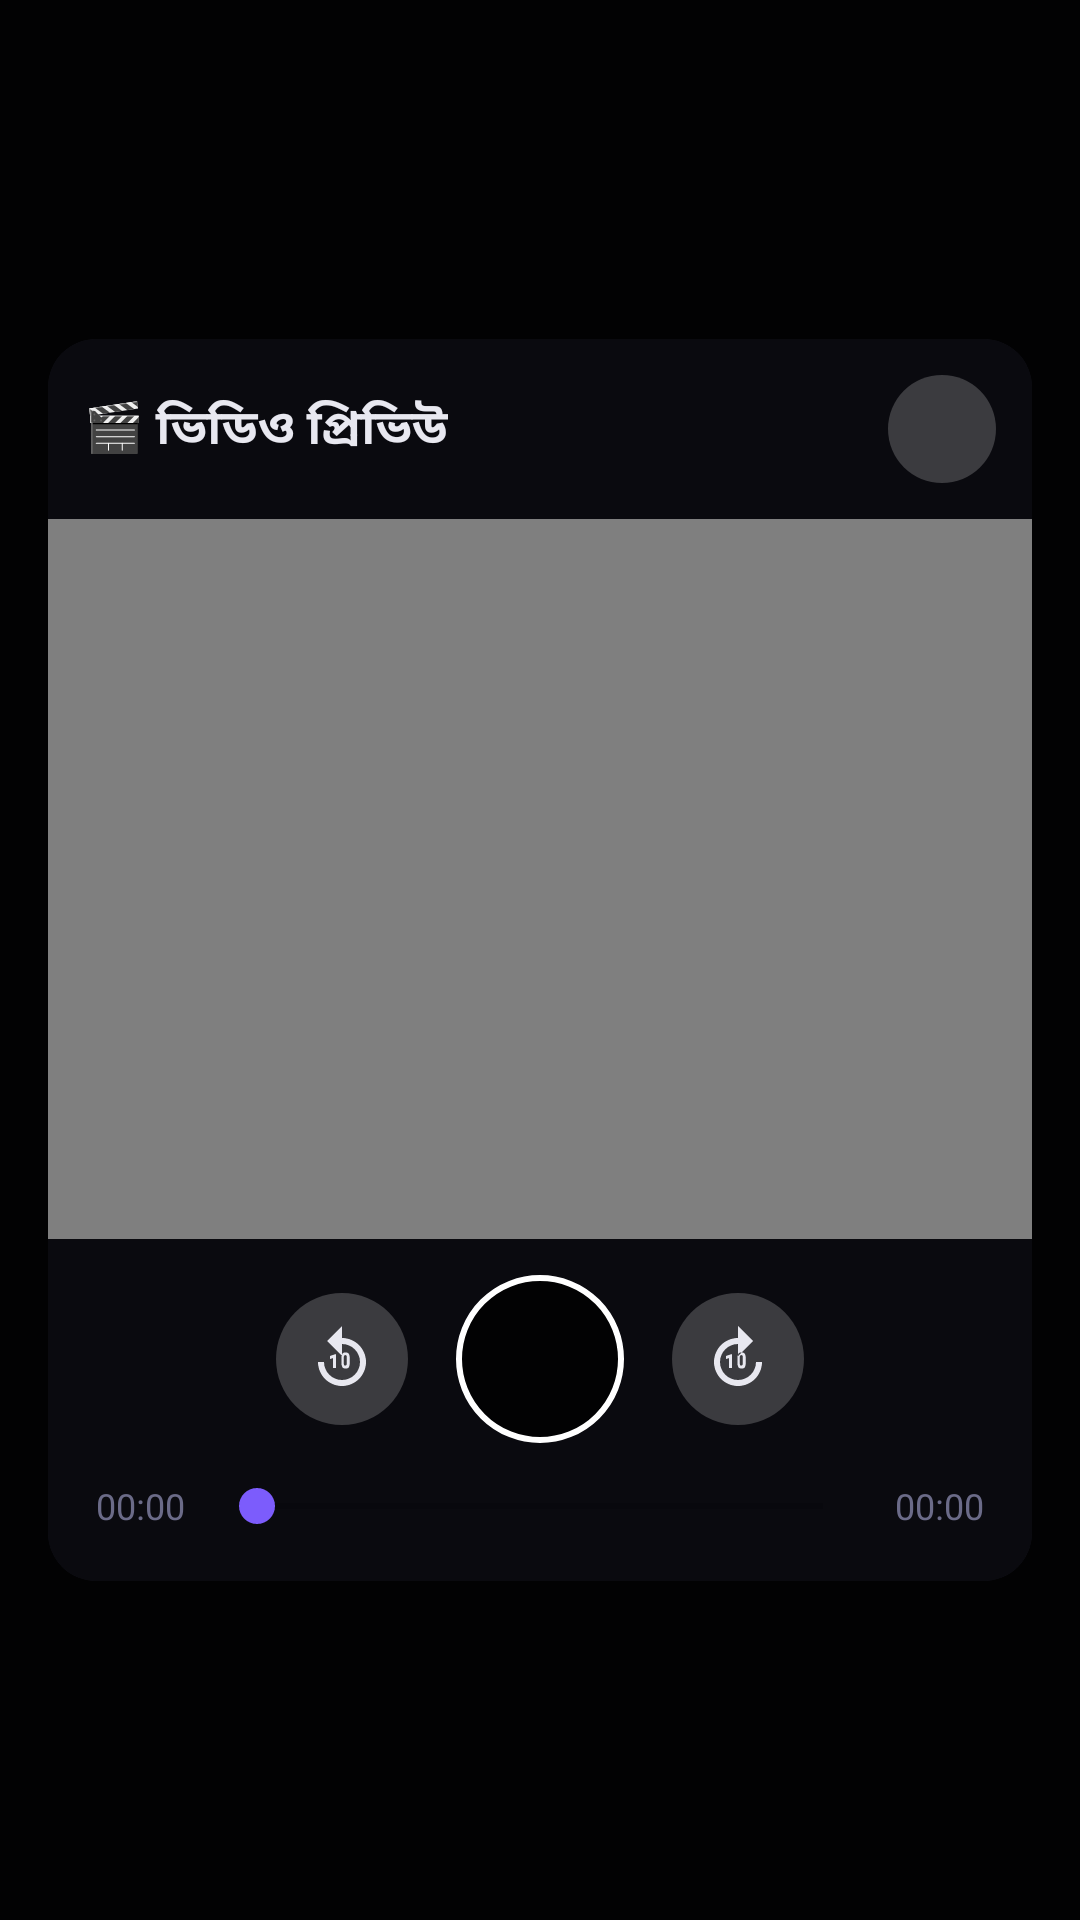

Screen size 1080px x 1920px. Icon name, then its box in pixels as (x1, y1, x2, y2):
Forward: (672, 1293, 804, 1425)
Rewind: (276, 1293, 408, 1425)
